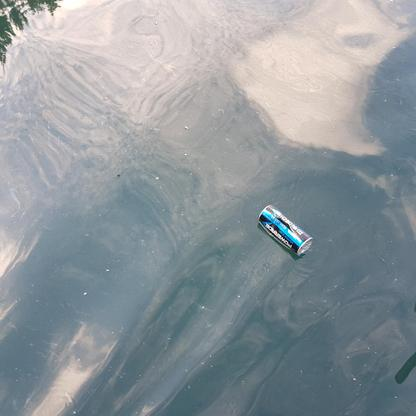can: (256, 205, 313, 257)
